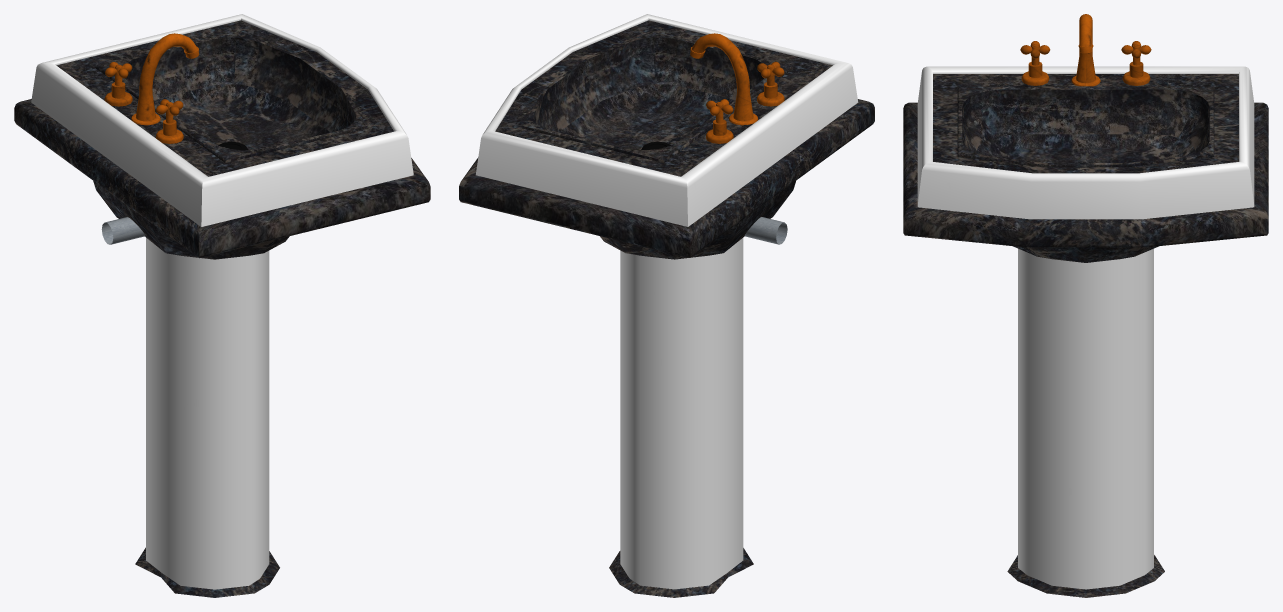
The model's file is singed.fbx.
3 views of the same model, side by side, from view 1: azimuth 30°, elevation 25°; view 2: azimuth 150°, elevation 25°; view 3: azimuth 270°, elevation 25° (orthographic).
Parts seen in each view (by area): view 1: Circle, Circle.004, Circle.003, Circle.001; view 2: Circle, Circle.004, Circle.003, Circle.001; view 3: Circle, Circle.004, Circle.003.
Boxes of the visible parts, bbox=[...] form: Circle: bbox=[31, 14, 413, 589]; Circle.004: bbox=[14, 20, 430, 597]; Circle.003: bbox=[104, 33, 199, 143]; Circle.001: bbox=[101, 217, 144, 244]; Circle: bbox=[475, 14, 858, 589]; Circle.004: bbox=[459, 20, 874, 597]; Circle.003: bbox=[690, 33, 784, 143]; Circle.001: bbox=[744, 217, 787, 244]; Circle: bbox=[917, 66, 1254, 589]; Circle.004: bbox=[903, 74, 1268, 597]; Circle.003: bbox=[1020, 14, 1151, 86].
Bounding box in the file's own units: 1595 × 3215 × 1989.
Materials: 5 (5 with a texture image).
